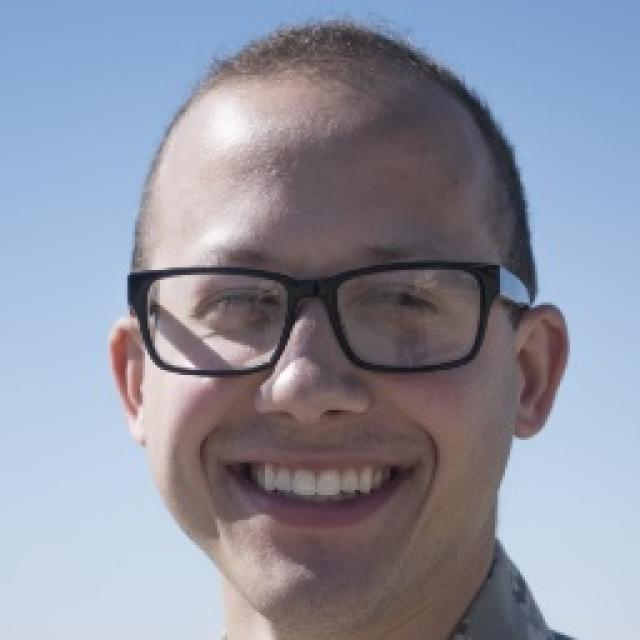glasses: (115, 250, 536, 383)
